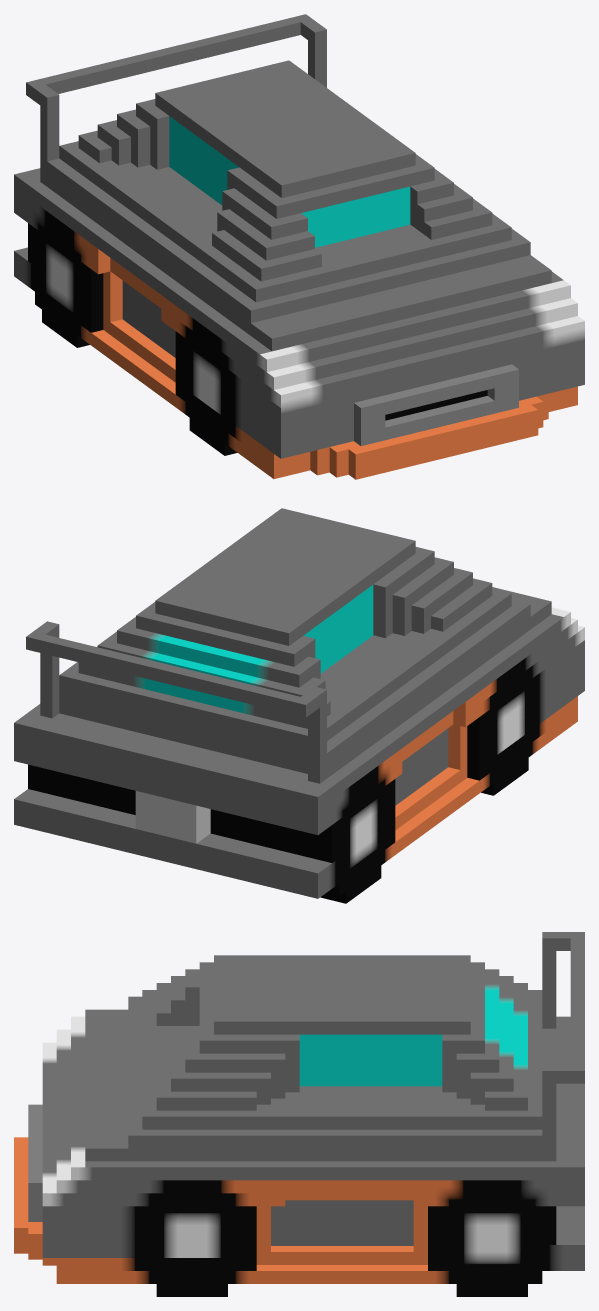
Rendered from Car_23.fbx.
3 renders of one model, top to bottom at view 1: azimuth 30°, elevation 25°; view 2: azimuth 150°, elevation 25°; view 3: azimuth 270°, elevation 25°, orthographic.
Visible parts, largest first — view 1: Car_23; view 2: Car_23; view 3: Car_23.
Boxes of the visible parts, bbox=[...] form: Car_23: bbox=[14, 14, 584, 479]; Car_23: bbox=[14, 508, 584, 903]; Car_23: bbox=[14, 932, 584, 1296].
Size of the model in its own units: 25 by 18 by 40.
1 material, 1 textured.
